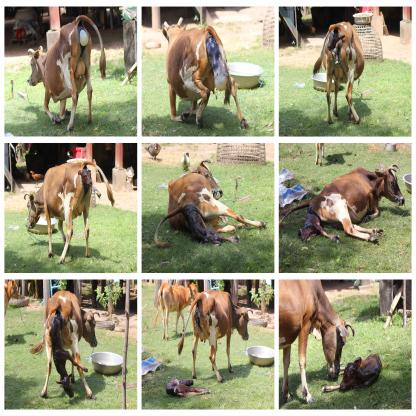cow: (280, 162, 406, 244), (162, 16, 250, 132), (154, 158, 266, 249), (278, 279, 356, 404), (23, 160, 115, 264), (27, 14, 106, 132), (29, 290, 101, 401), (178, 290, 253, 384), (314, 22, 366, 126), (49, 307, 89, 399), (152, 281, 198, 342), (323, 353, 382, 394), (183, 202, 234, 246), (297, 208, 340, 244), (166, 374, 210, 398), (4, 280, 21, 318)
